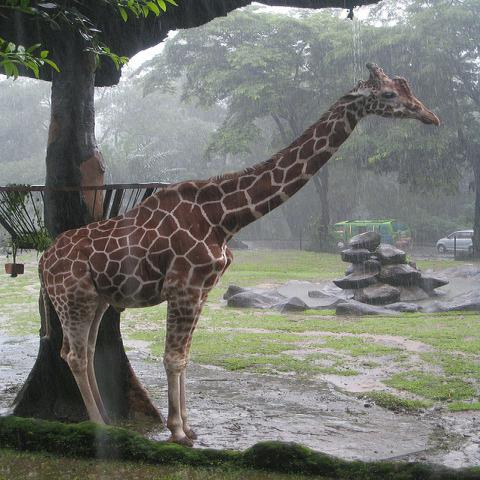car: (437, 230, 474, 254)
